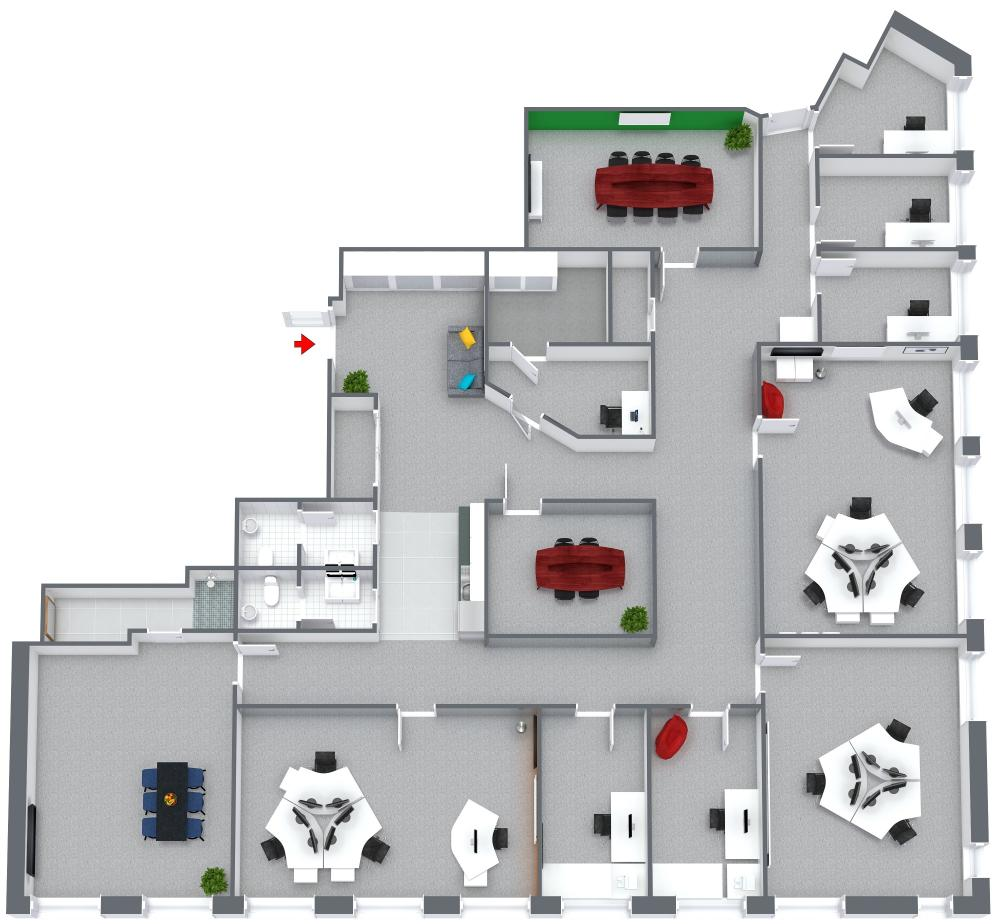room: (759, 343, 973, 636), (235, 704, 539, 905), (18, 643, 234, 906), (762, 640, 978, 902), (524, 107, 760, 249), (648, 706, 765, 905), (486, 499, 654, 637), (539, 705, 649, 905), (485, 342, 653, 438), (814, 50, 967, 154), (817, 156, 968, 251), (817, 249, 968, 344), (486, 248, 609, 343), (237, 498, 376, 567), (236, 568, 377, 628), (329, 394, 377, 497), (609, 246, 653, 344)
